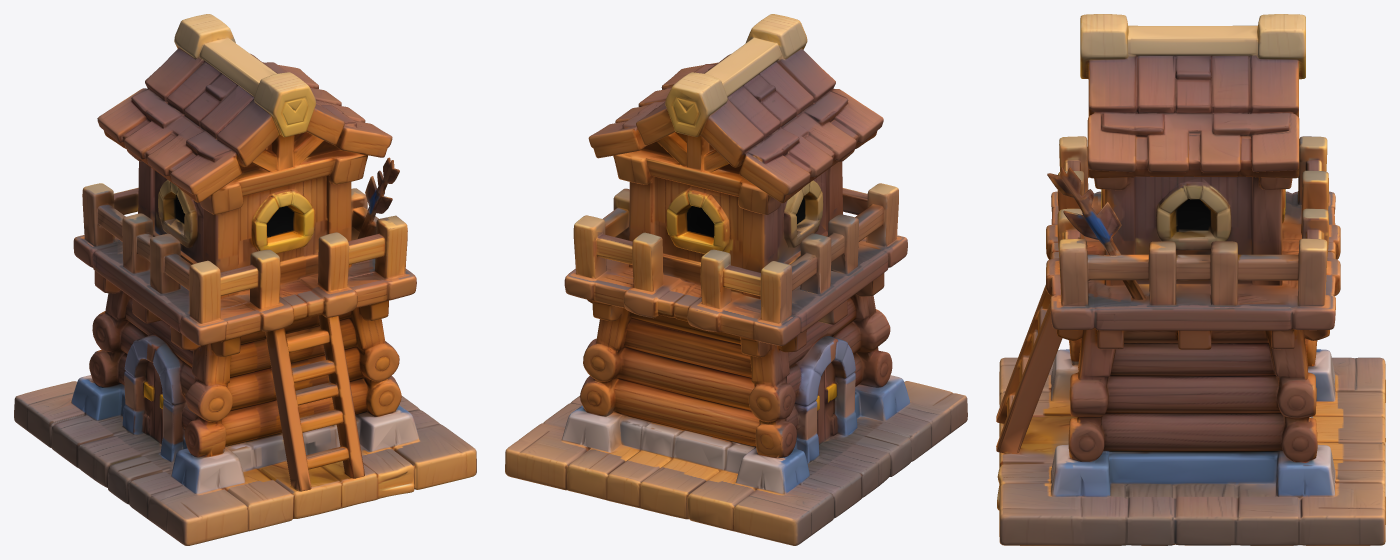
The model's file is archer_tower.glb.
3 renders of one model, left to right at view 1: azimuth 30°, elevation 25°; view 2: azimuth 150°, elevation 25°; view 3: azimuth 270°, elevation 25°, orthographic. The views are drawn at different scales.
Parts seen in each view (by area): view 1: node_0; view 2: node_0; view 3: node_0.
Boxes of the visible parts, x1,y1,x2,y2 form: node_0: (14,14,476,545); node_0: (505,14,967,545); node_0: (996,14,1385,545).
Bounding box in the file's own units: 0.6327 × 0.8145 × 0.6458.
Materials: 1 (1 with a texture image).
